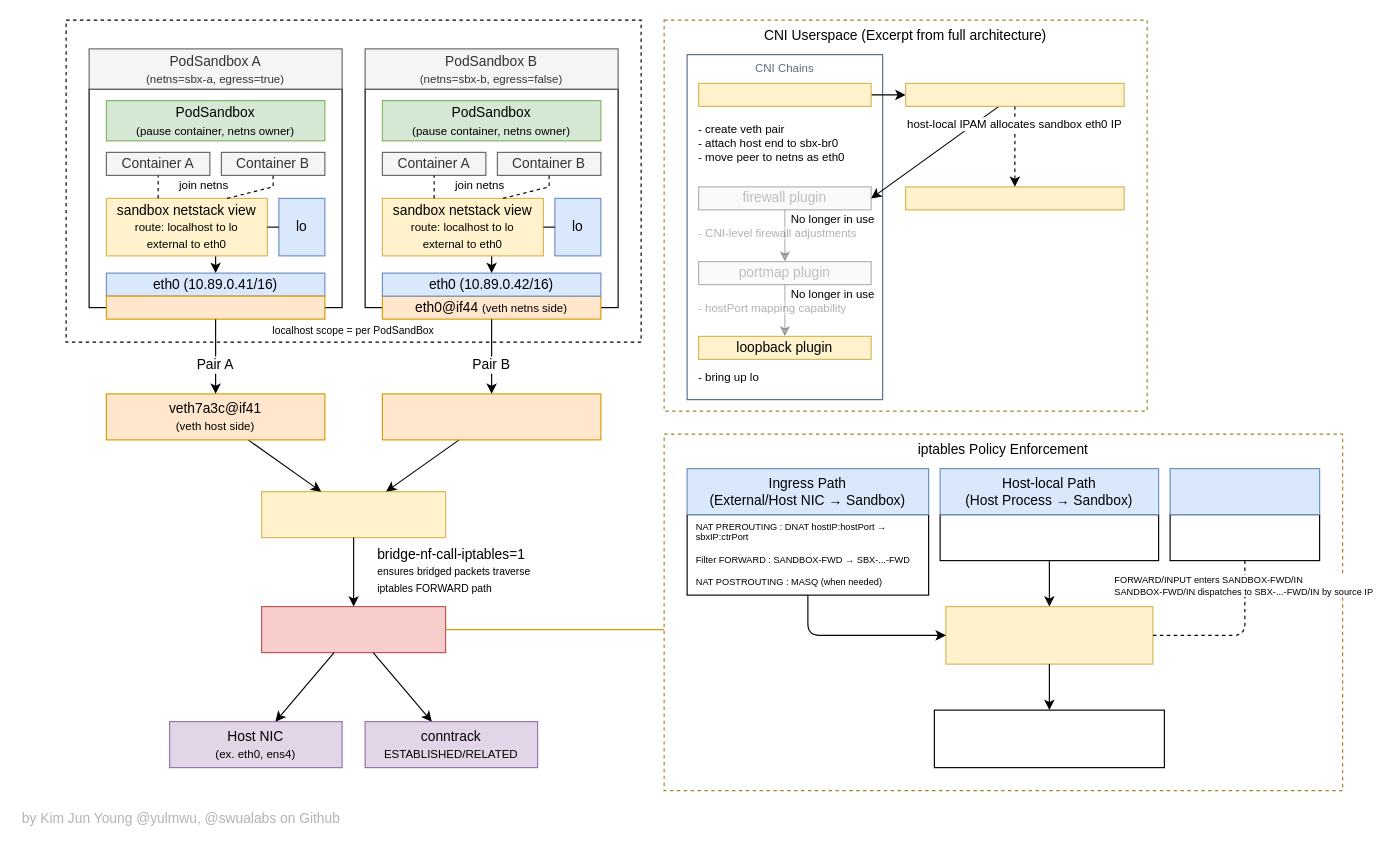
This 1396x857 diagram has some shape labels left out. Here are the shapes that lost their labels. From the top down, the box of each, then its label:
(697, 82, 871, 106): bridge plugin
(904, 82, 1124, 106): host-local IPAM (10.89.0.0/16)
(65, 19, 641, 342): Sandboxes
(904, 186, 1124, 210): CNI Cache (/var/lib/cni/...)
(105, 295, 325, 319): eth0@if42 (veth netns side)
(381, 393, 601, 440): veth9f2d@if43 (veth host side)
(1169, 467, 1320, 515): Global Hooks
(260, 490, 446, 538): sbx-br0 Bridge (GW: 10.89.0.1)
(939, 513, 1159, 561): NAT OUTPUT : DNAT hostPort → sbxIP:ctrPort Filter FORWARD/INPUT Dispatch
(1169, 513, 1320, 561): FORWARD → SANDBOX-FWD INPUT → SANDBOX-IN
(260, 605, 446, 653): Netfilter Hook Path
(945, 605, 1153, 664): Per-sandbox Chains SBX-...-FWD/IN (dispatch by sandbox source IP)
(933, 709, 1164, 768): Egress Behavior A(egress=true) : Outbound Allow B(egress=false) : Outbound Deny
